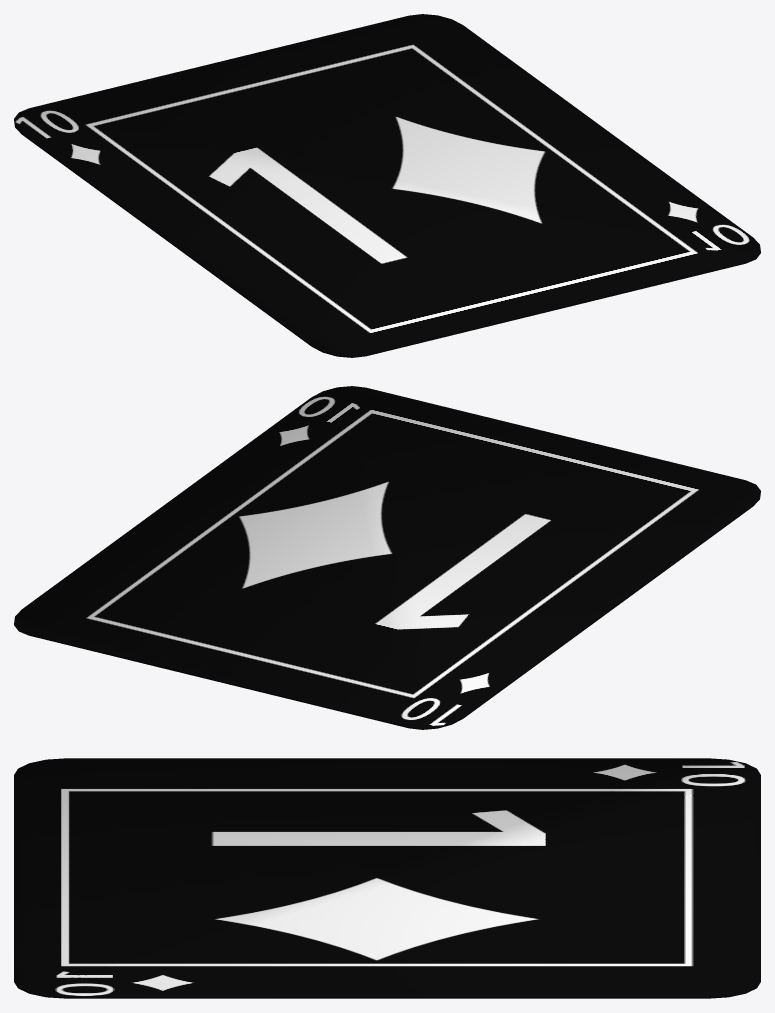
File: Dix_de_carreau.gltf
The picture shows the model from 3 angles, top to bottom: view 1: azimuth 30°, elevation 25°; view 2: azimuth 150°, elevation 25°; view 3: azimuth 270°, elevation 25°; orthographic projection. The views are drawn at different scales.
Parts seen in each view (by area): view 1: Plane.001; view 2: Plane.001; view 3: Plane.001.
Boxes of the visible parts, left/top/right/bottom form: Plane.001: left=14, top=14, right=760, bottom=357; Plane.001: left=14, top=386, right=760, bottom=729; Plane.001: left=14, top=758, right=760, bottom=998.
Bounding box in the file's own units: 3.59 × 0.01 × 4.74.
2 materials, 2 textured.
